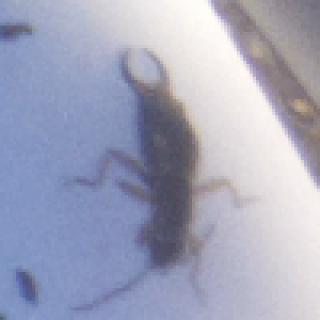earwig: (66, 38, 252, 320)
